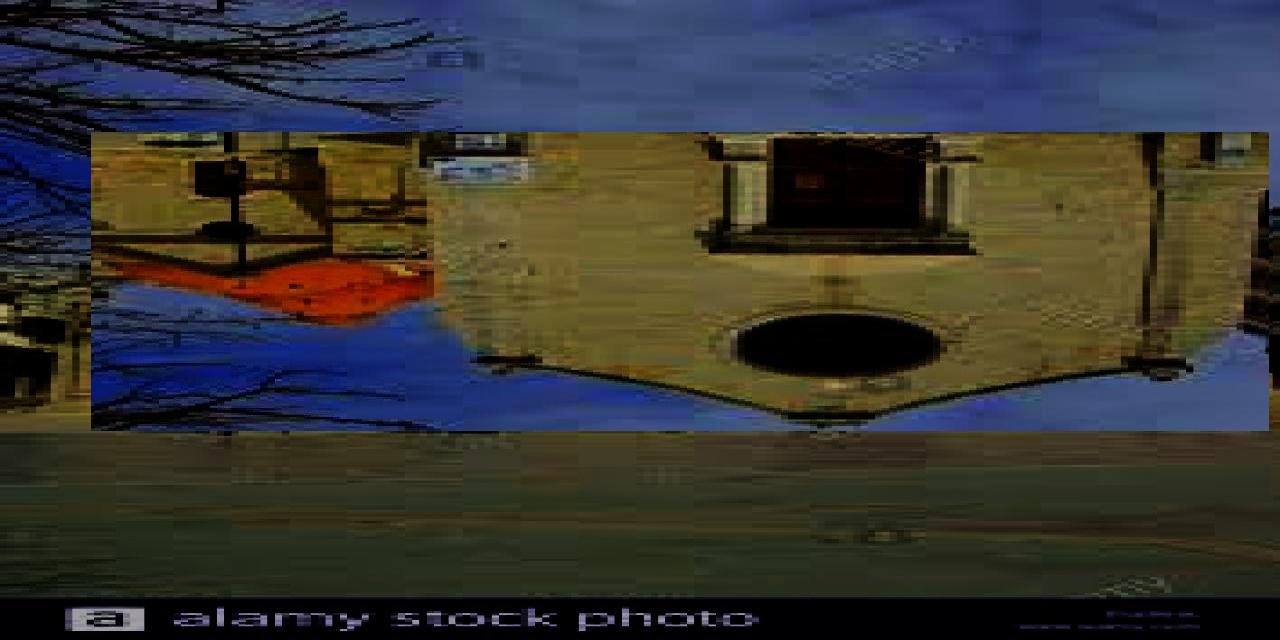Agia Aikaterini: (92, 133, 1270, 432)
